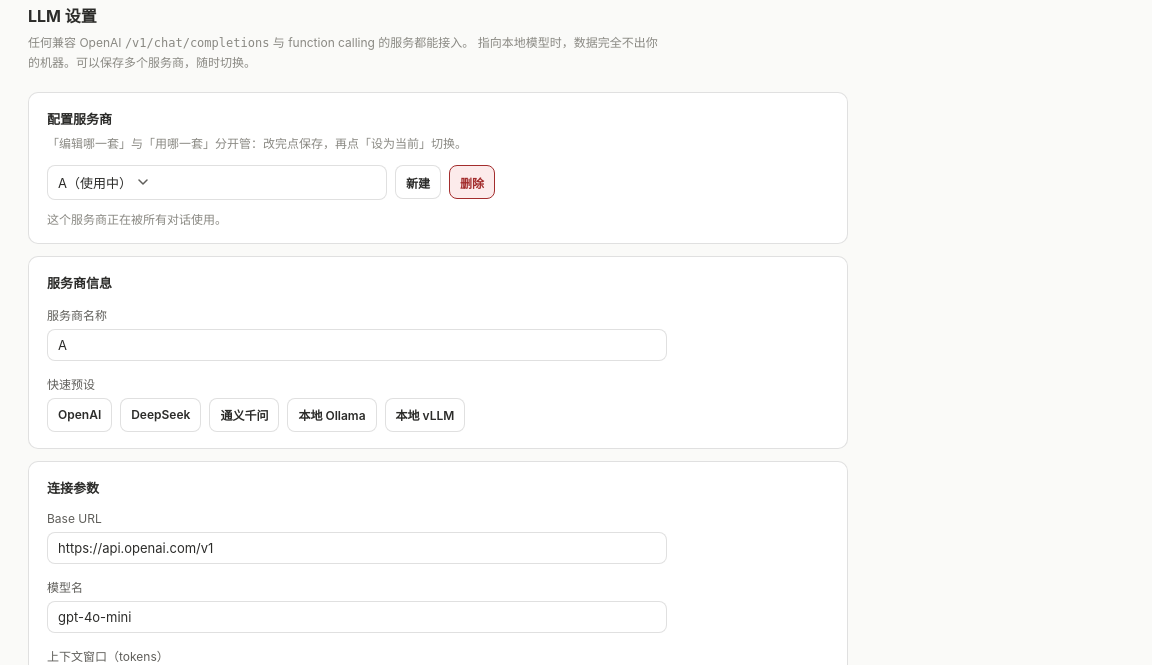
Test case: SettingsPanel 多方案 › 新建模式下表单全空时不发测试请求 —— 否则会拿到激活方案配置的「连接成功」
Step 1. Click the button "新建" → (418, 182), box [395,166,441,200]
(page scrolled)
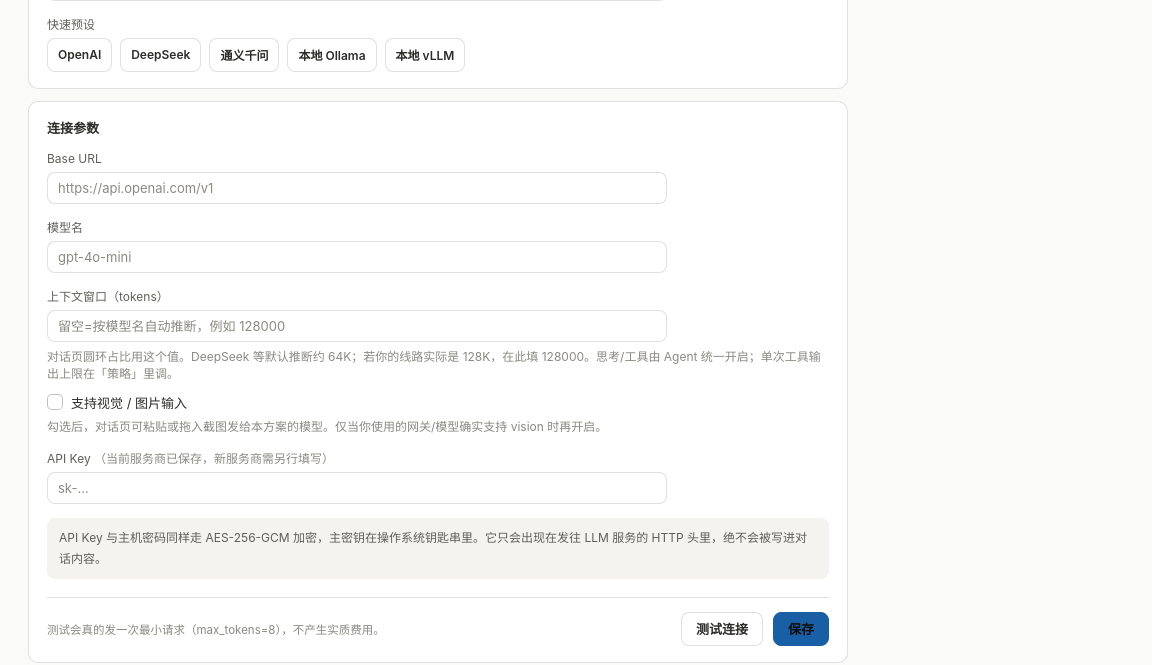
Step 2. Click the button "测试连接" → (722, 629), box [681,612,763,646]
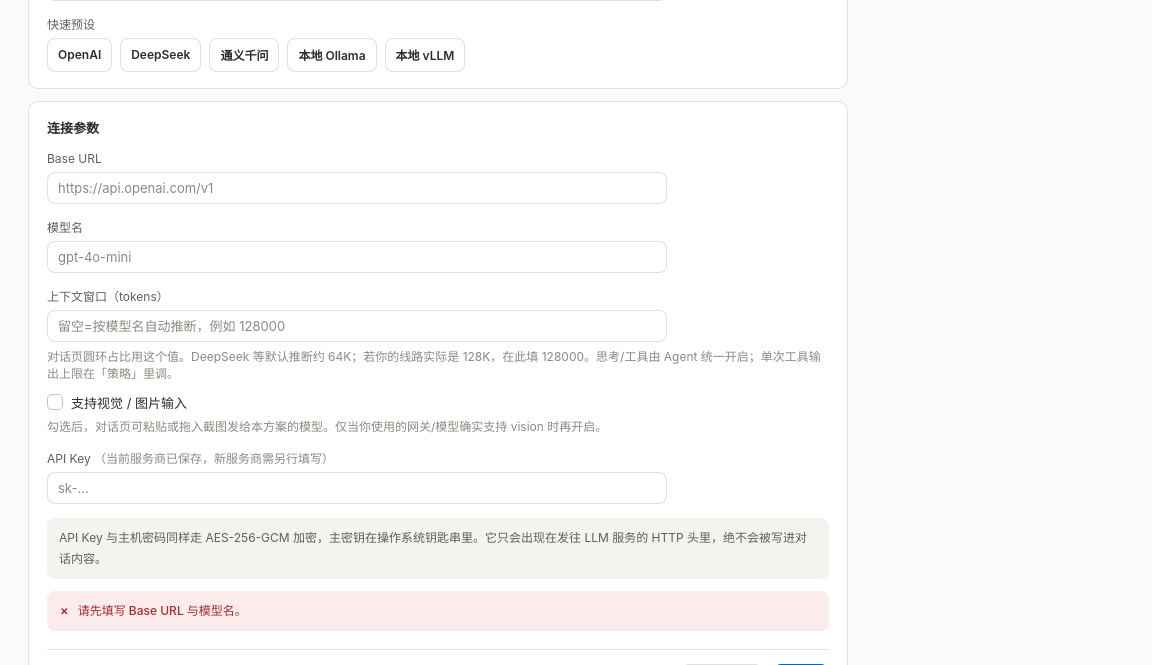
Check: the element with class "test-result" shows "请先填写", box [78,603,247,618]
